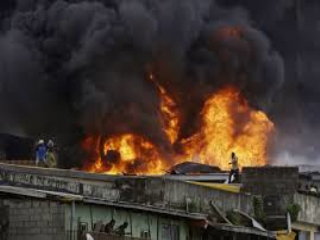fire: (85, 82, 272, 170)
smoke: (38, 8, 287, 85)
